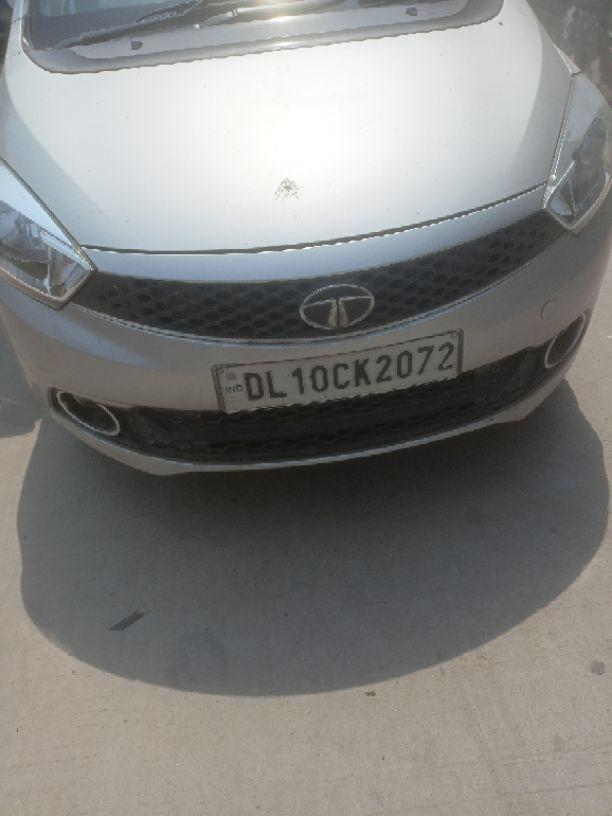license_plate: (1, 0, 610, 477), (210, 328, 464, 415)
